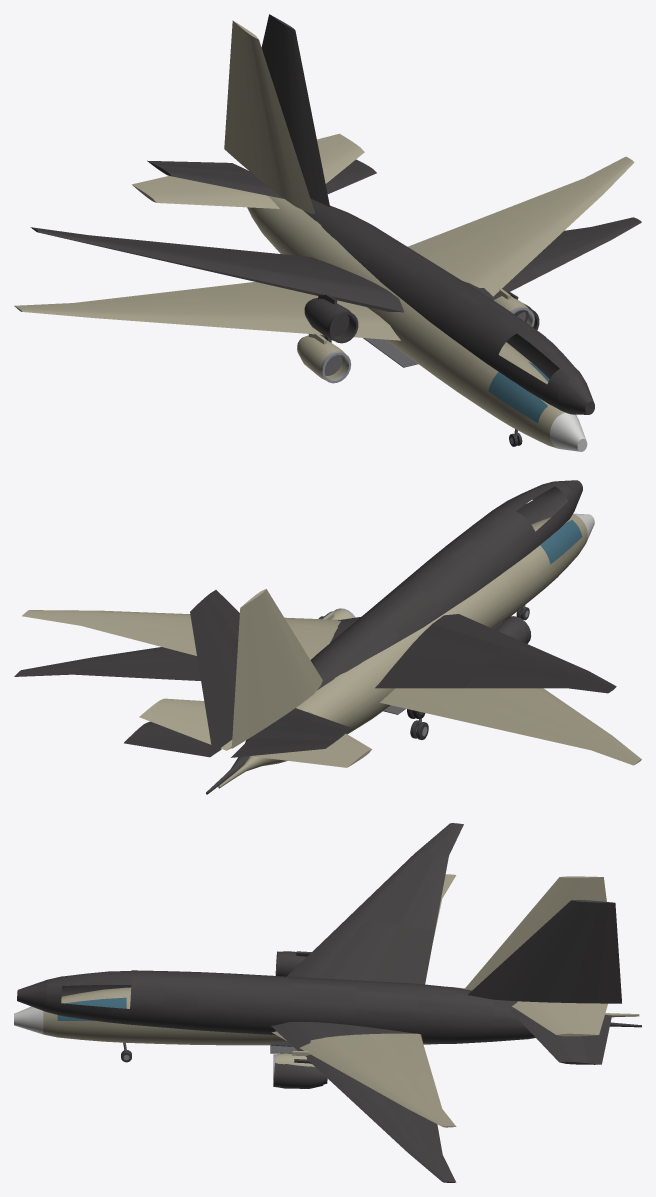
File: maritimePatrol__p_8i_neptune.glb
The picture shows the model from 3 angles, top to bottom: view 1: azimuth 30°, elevation 25°; view 2: azimuth 150°, elevation 25°; view 3: azimuth 270°, elevation 25°; orthographic projection. The views are drawn at different scales.
Parts seen in each view (by area): view 1: Fuselage_Mesh, Wreck; view 2: Wreck, Fuselage_Mesh; view 3: Wreck, Fuselage_Mesh.
Part boxes in pixels (x1=…): Fuselage_Mesh: x1=14, y1=20, x2=634, y2=451; Wreck: x1=30, y1=14, x2=641, y2=414; Wreck: x1=14, y1=480, x2=616, y2=794; Fuselage_Mesh: x1=22, y1=513, x2=641, y2=788; Wreck: x1=17, y1=823, x2=641, y2=1182; Fuselage_Mesh: x1=14, y1=874, x2=639, y2=1127.
Size of what is drawn, in the model's own units: 38.11 by 12.83 by 39.66.
